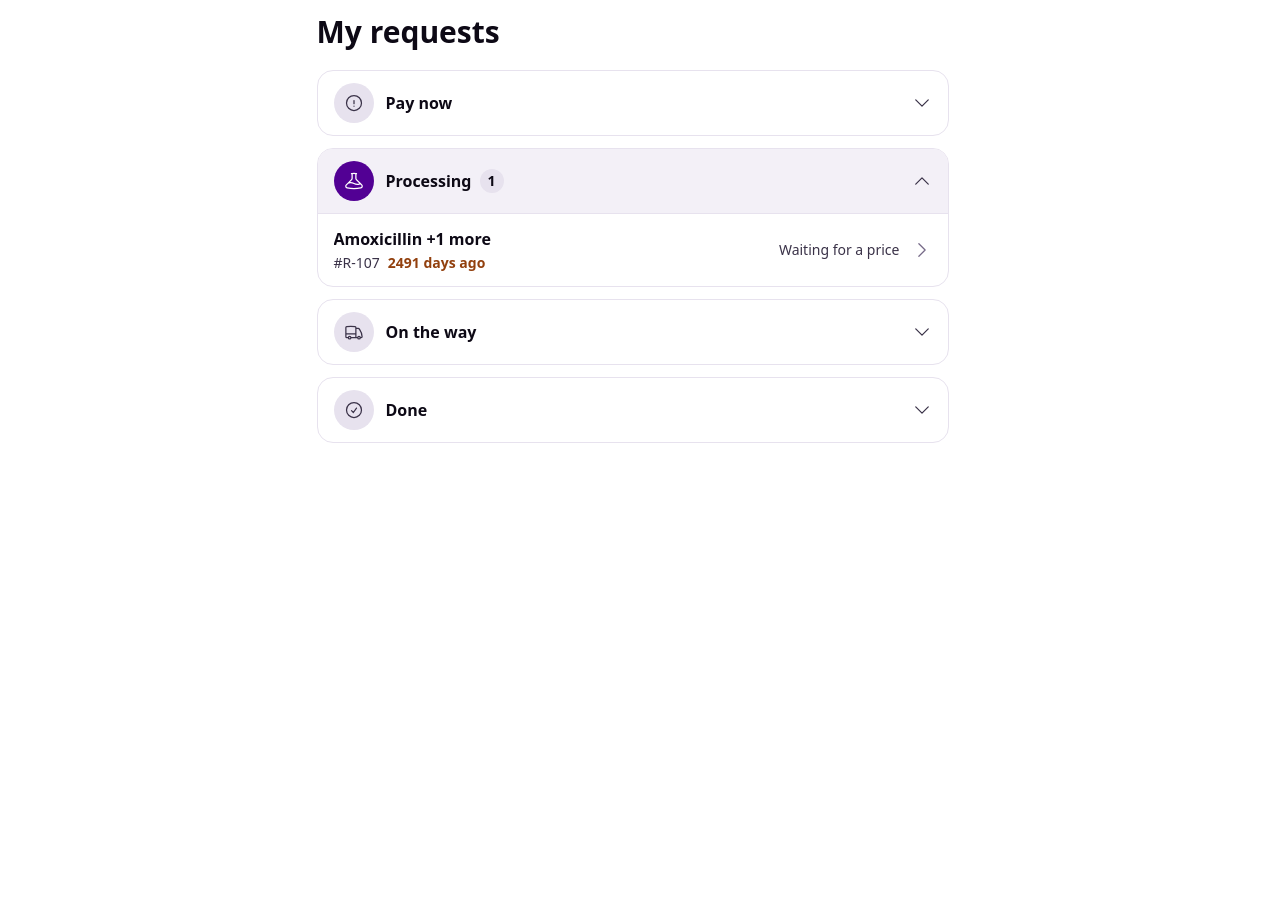
Test: Request detail: the dialog › opens as a labelled modal dialog titled with the request number
What coordinates should you click on to do the following:
click the button "Amoxicillin +1 more #R-107 2491 days ago Waiting for a price"
I would click on:
 (412, 239)
Its box is [322,218,944,282].
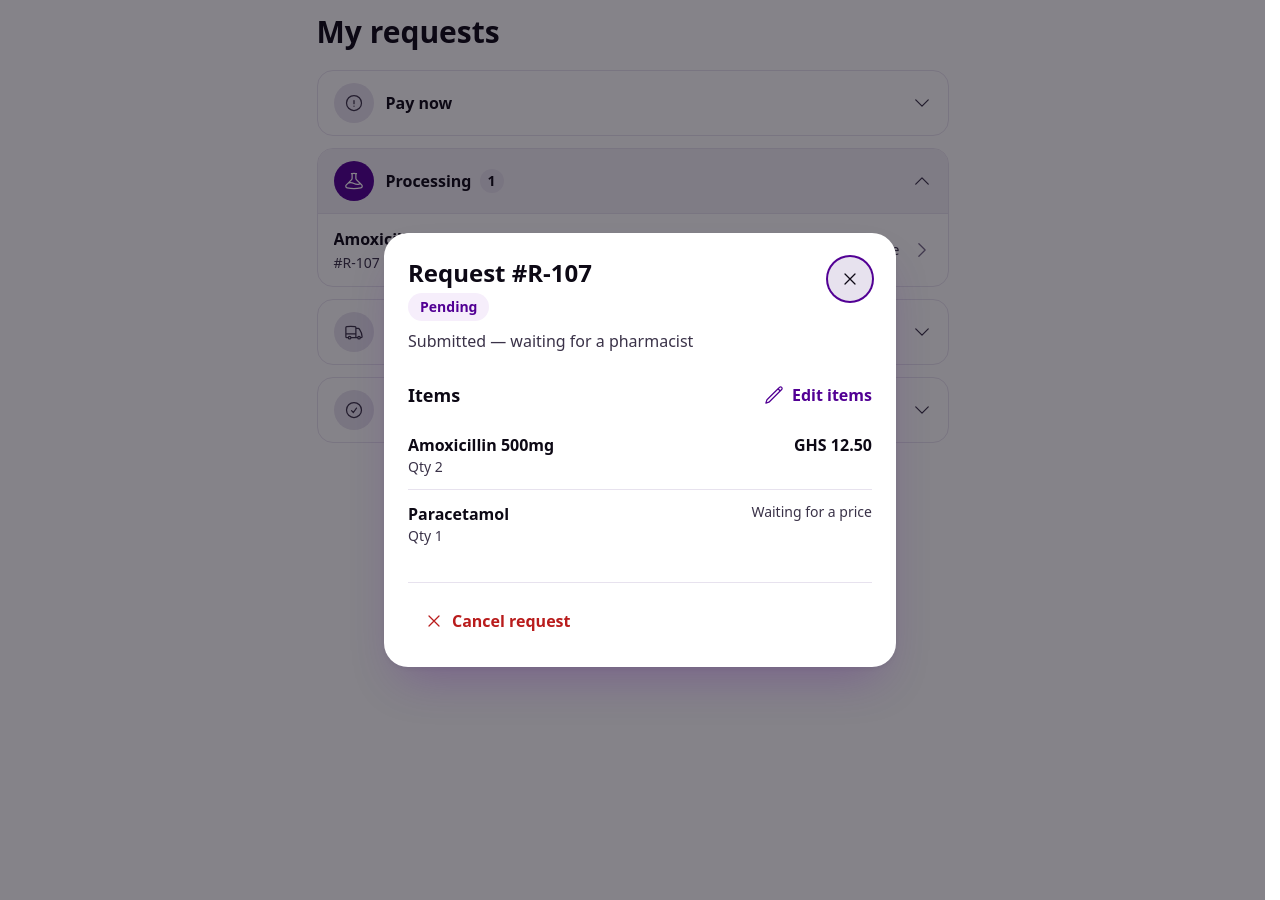
expect the dialog is shown: met, box [384,233,896,667]
expect the heading with id "request-detail-title" reads "Request #R-107": met, box [408,256,592,289]
